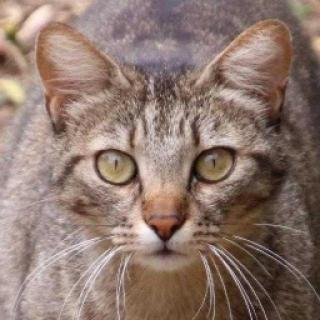cat: (35, 18, 295, 280)
nose: (138, 186, 193, 244)
